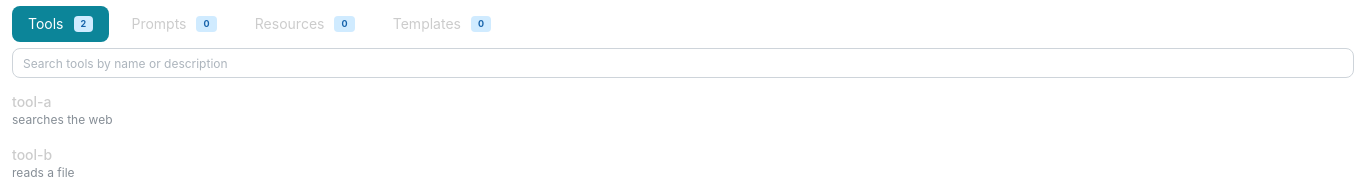
Test: Inspector list — sorting and search › filters by description as well as name
Type "web" into the field labelled "Search tools by name or description". click: (683, 63)
box: [12,48,1354,78]
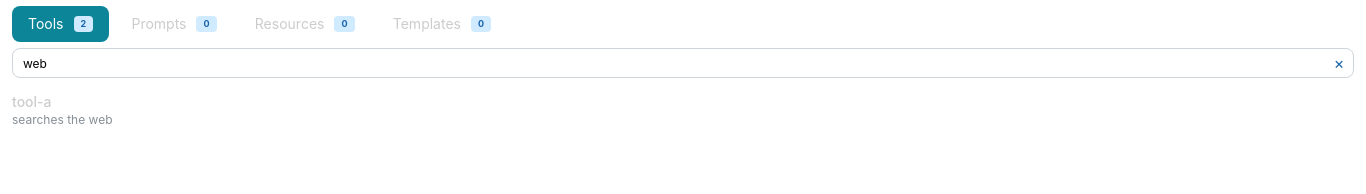
Expected: the text "tool-a" is shown, [12,93,52,110]
Expected: the text "tool-b" is gone
